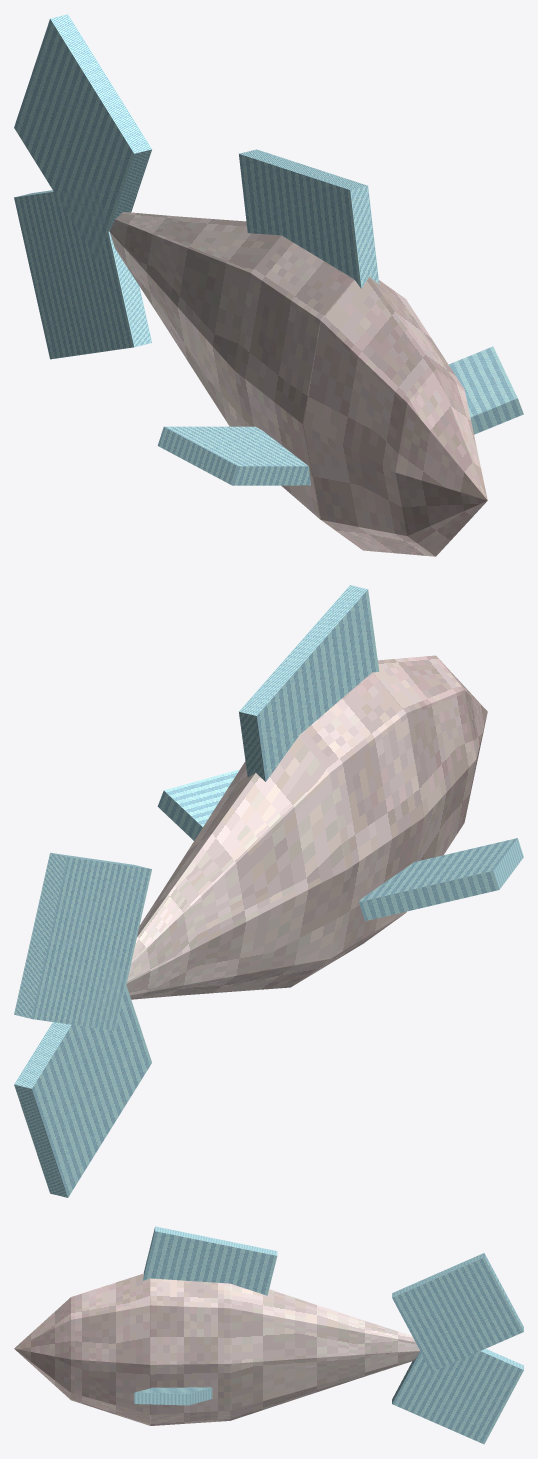
The model's file is tetra_cego.glb.
3 views of the same model, one above another, from view 1: azimuth 30°, elevation 25°; view 2: azimuth 150°, elevation 25°; view 3: azimuth 270°, elevation 25° (orthographic). The views are drawn at different scales.
Parts seen in each view (by area): view 1: tetra_cego; view 2: tetra_cego; view 3: tetra_cego.
Boxes of the visible parts, x1,y1,x2,y2 form: tetra_cego: [14, 14, 523, 556]; tetra_cego: [14, 585, 523, 1197]; tetra_cego: [14, 1226, 523, 1444].
Size of the model in its own units: 0.2738 by 0.2977 by 0.645.
1 material, 1 textured.
